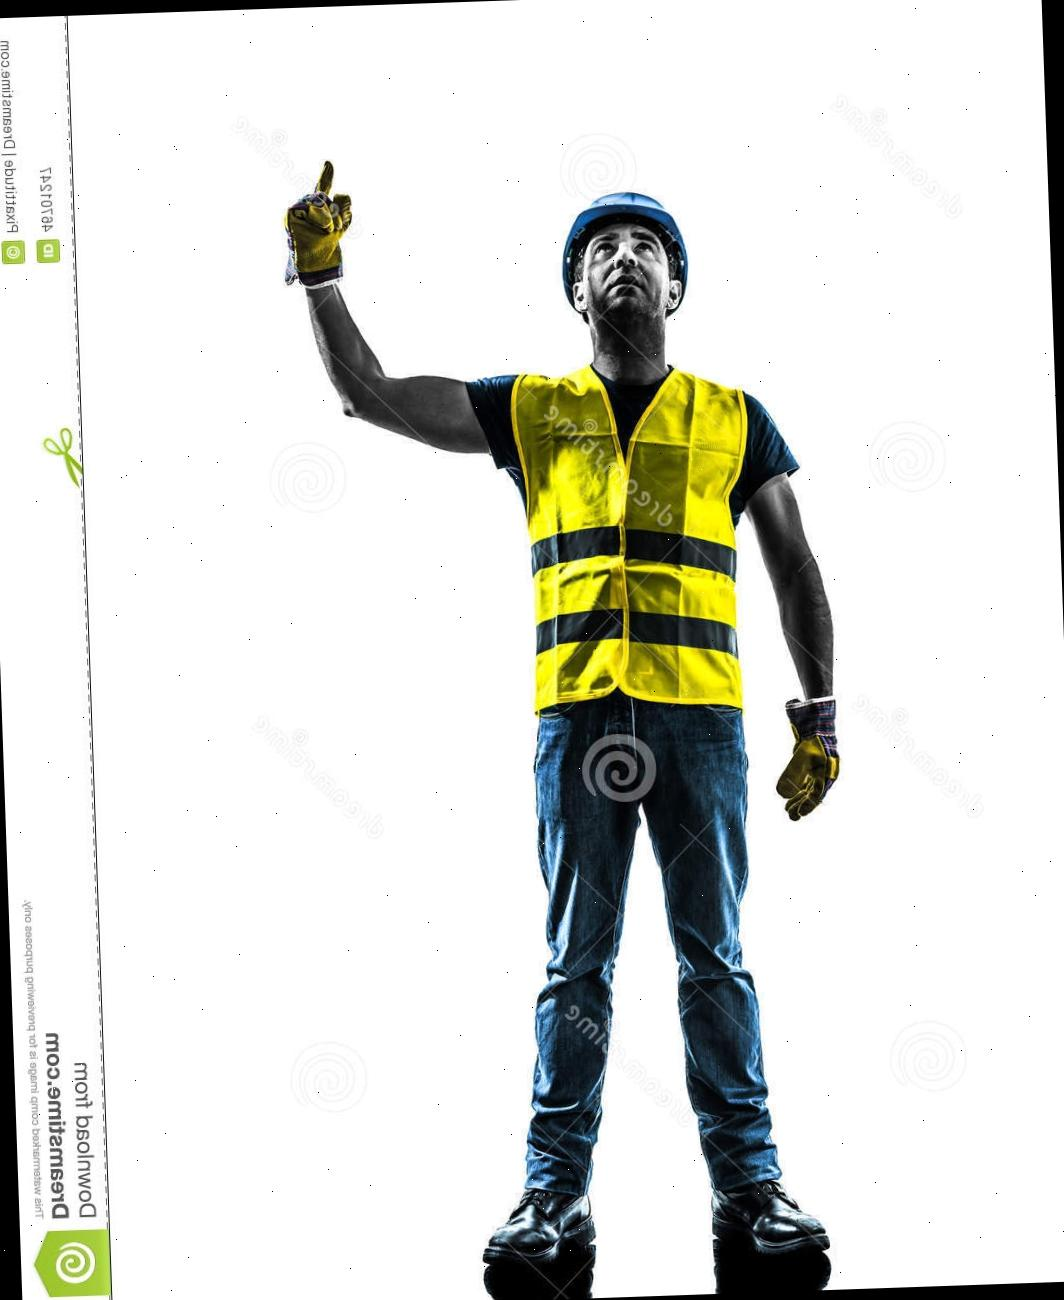helmet: (558, 188, 693, 319)
wear: (518, 364, 754, 729)
